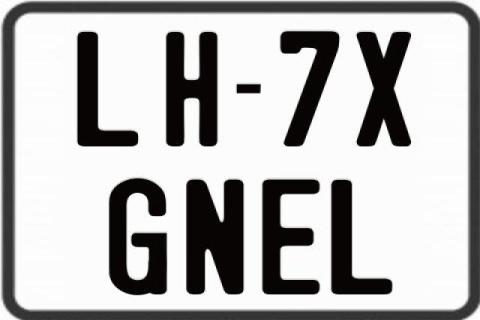0: (280, 29, 340, 145)
E: (260, 177, 324, 297)
G: (108, 178, 168, 298)
H: (164, 32, 219, 146)
L: (329, 180, 396, 298), (74, 30, 138, 146)
N: (186, 177, 250, 296)
X: (354, 31, 413, 148)
